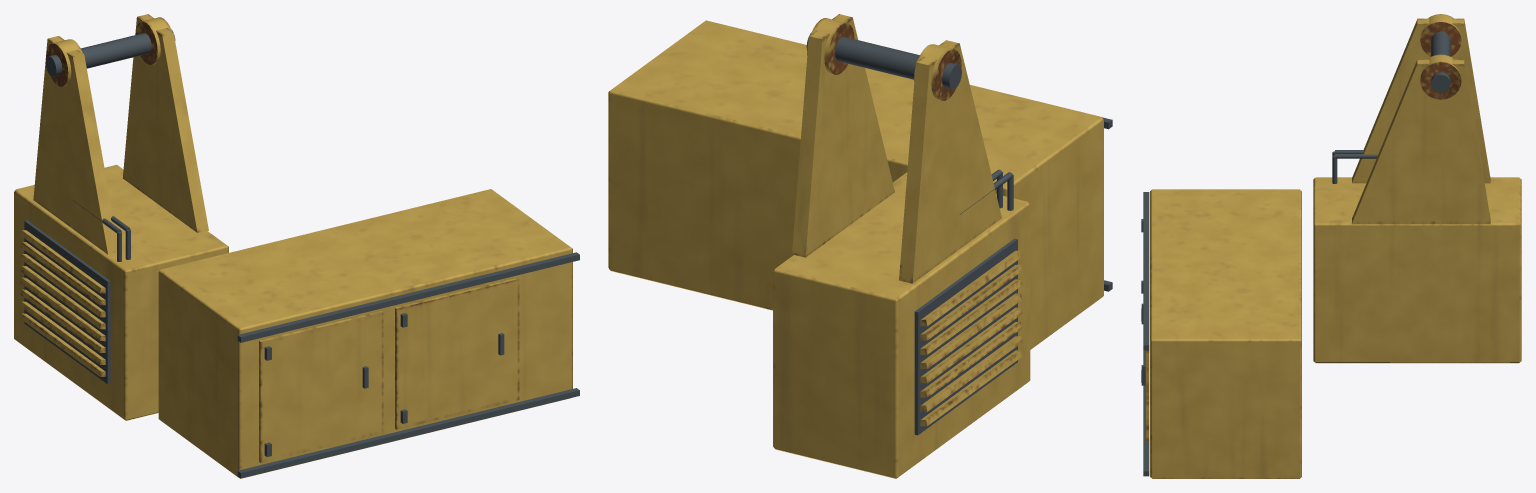
The model's file is machinery_station.glb.
3 renders of one model, left to right at view 1: azimuth 30°, elevation 25°; view 2: azimuth 150°, elevation 25°; view 3: azimuth 270°, elevation 25°, orthographic. The views are drawn at different scales.
Parts seen in each view (by area): view 1: machinery_station; view 2: machinery_station; view 3: machinery_station.
Boxes of the visible parts, x1,y1,x2,y2 form: machinery_station: (14, 14, 579, 478); machinery_station: (608, 14, 1112, 478); machinery_station: (1141, 14, 1521, 478).
Bounding box in the file's own units: 4.25 × 3.57 × 4.05.
2 materials, 1 textured.
